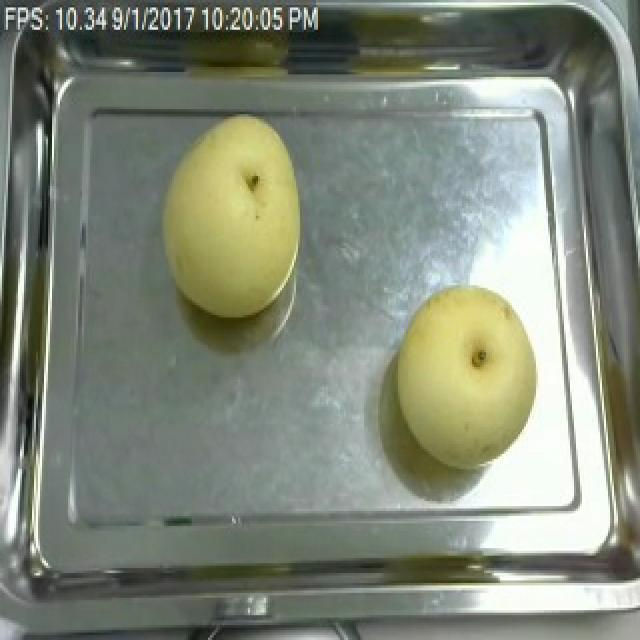Fruit: (152, 111, 310, 322), (384, 275, 550, 474)
